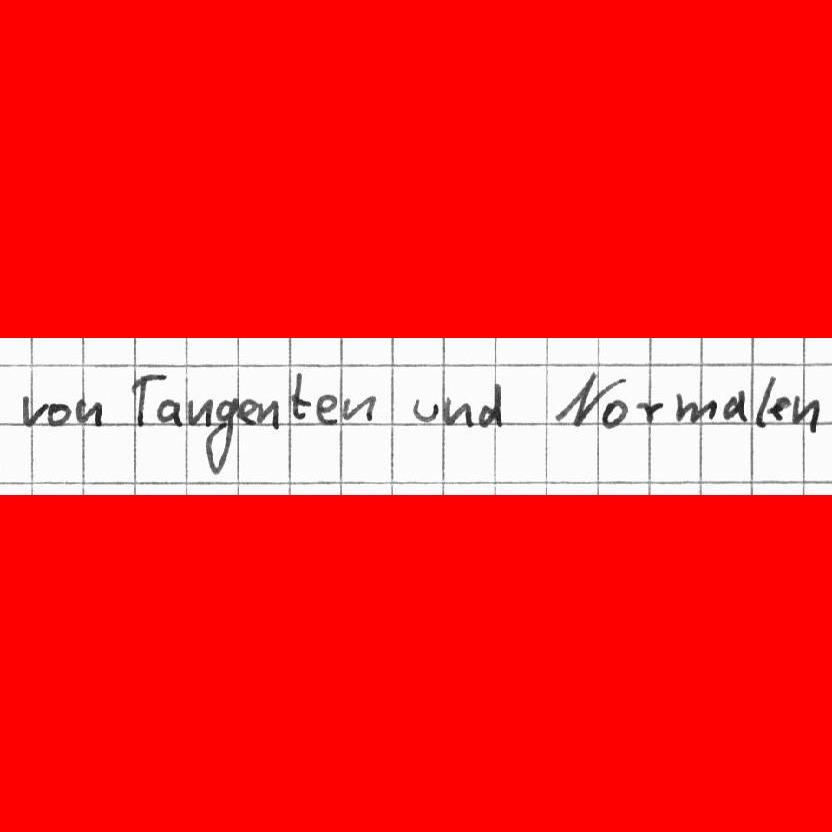Char: (553, 373, 610, 428), (203, 393, 238, 477), (128, 373, 156, 428), (751, 372, 775, 428), (477, 381, 503, 430), (676, 394, 715, 426), (791, 393, 821, 433), (342, 391, 376, 424), (597, 398, 629, 431), (289, 371, 310, 421), (74, 395, 103, 429), (444, 395, 473, 429), (20, 393, 47, 428), (184, 397, 212, 429), (634, 397, 665, 424), (722, 388, 745, 424), (256, 396, 280, 430), (156, 396, 182, 427), (315, 391, 339, 424), (412, 395, 440, 423), (48, 401, 72, 427), (236, 396, 256, 425), (770, 396, 789, 424)
